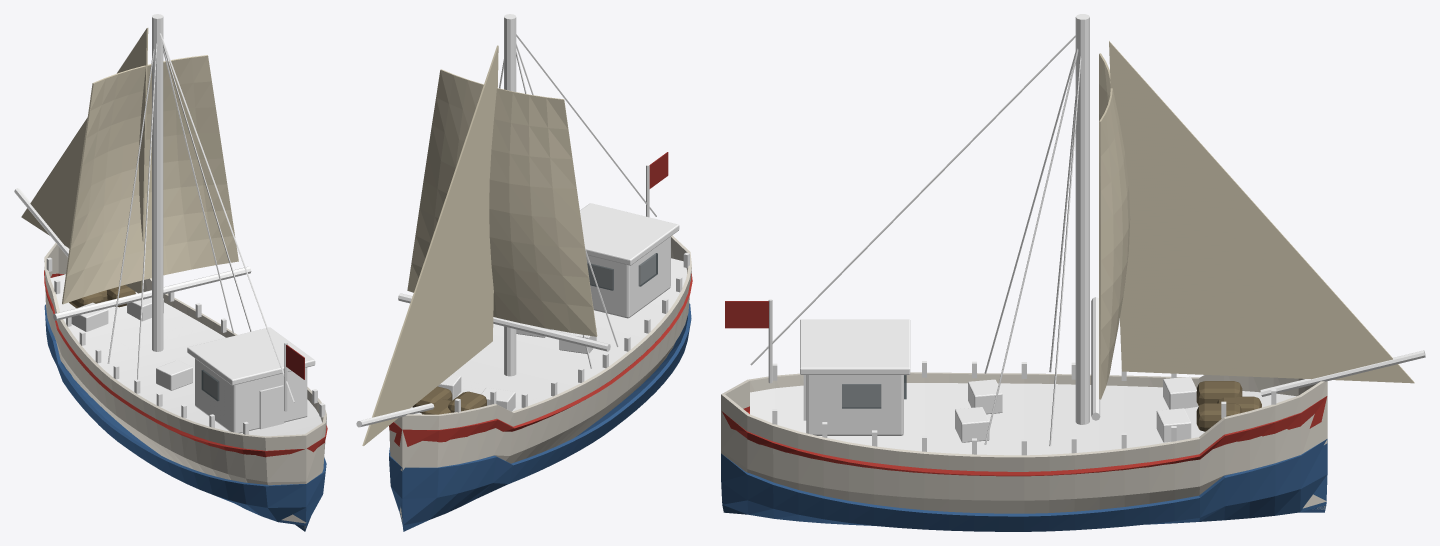
Rendered from gemi.glb.
3 views of the same model, side by side, from view 1: azimuth 30°, elevation 25°; view 2: azimuth 150°, elevation 25°; view 3: azimuth 270°, elevation 25° (orthographic). The views are drawn at different scales.
Parts seen in each view (by area): view 1: Babalik; view 2: Babalik; view 3: Babalik.
Part boxes in pixels (x1=…): Babalik: x1=14, y1=14, x2=327, y2=531; Babalik: x1=356, y1=14, x2=692, y2=531; Babalik: x1=721, y1=14, x2=1425, y2=531.
Size of the model in its own units: 0.84 by 1.68 by 2.17.
